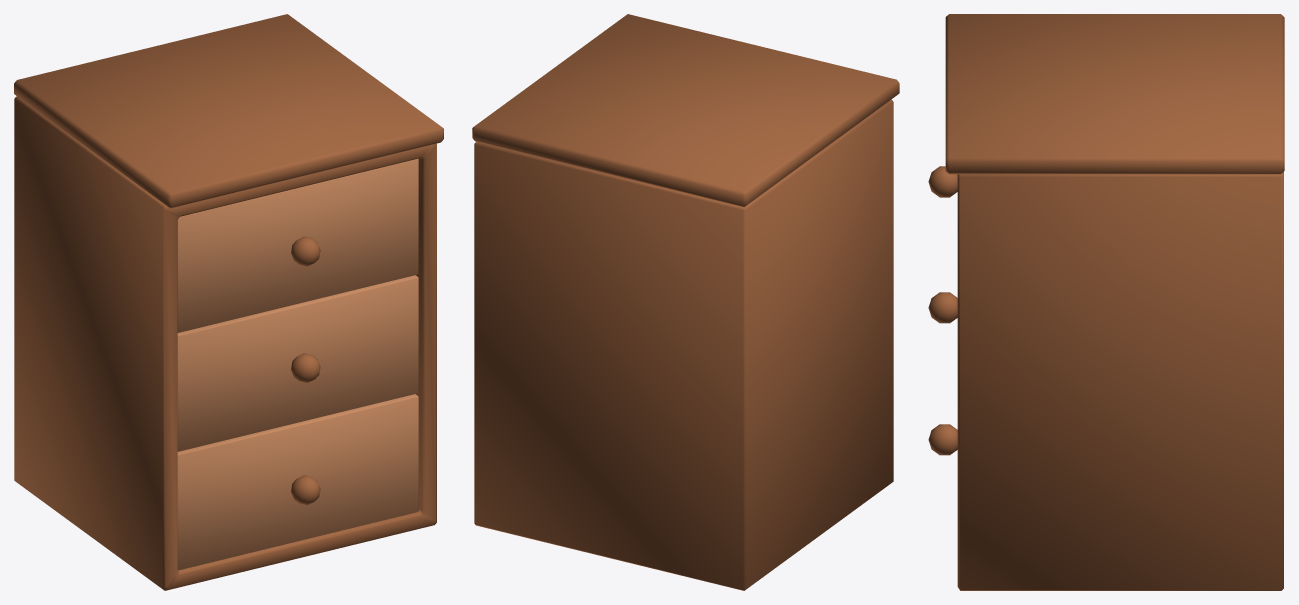
File: drawer_smart.gltf
3 views of the same model, side by side, from view 1: azimuth 30°, elevation 25°; view 2: azimuth 150°, elevation 25°; view 3: azimuth 270°, elevation 25° (orthographic). The views are drawn at different scales.
Visible parts, largest first — view 1: Drawer B, Drawer B.002, Drawer B.003, Drawer B.001; view 2: Drawer B; view 3: Drawer B, Drawer B.003, Drawer B.002, Drawer B.001.
Boxes of the visible parts, x1,y1,x2,y2 form: Drawer B: (14, 14, 443, 590); Drawer B.002: (177, 275, 418, 451); Drawer B.003: (177, 394, 418, 570); Drawer B.001: (177, 158, 418, 332); Drawer B: (472, 14, 899, 590); Drawer B: (945, 14, 1284, 590); Drawer B.003: (928, 424, 957, 455); Drawer B.002: (928, 292, 957, 323); Drawer B.001: (928, 166, 957, 197).
Size of the model in its own units: 2.54 by 3.53 by 2.62.
